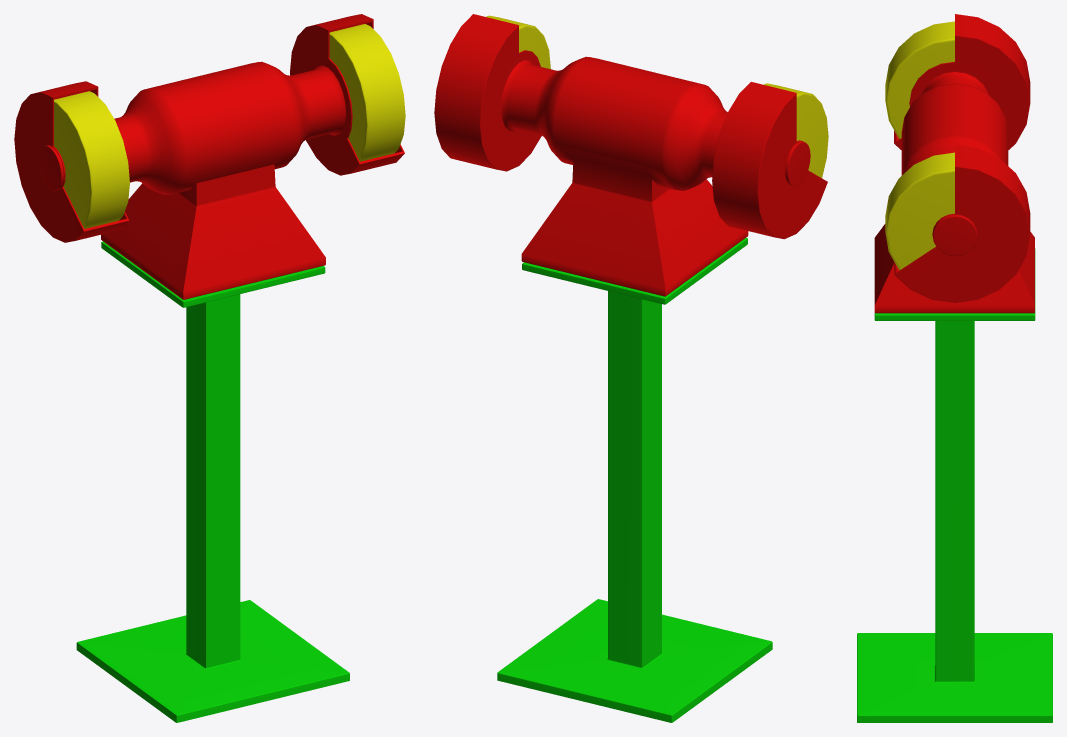
Rendered from IndustrialSander_Strong_Hannah.fbx.
3 views of the same model, side by side, from view 1: azimuth 30°, elevation 25°; view 2: azimuth 150°, elevation 25°; view 3: azimuth 270°, elevation 25° (orthographic). The views are drawn at different scales.
Visible parts, largest first — view 1: IndustSand; view 2: IndustSand; view 3: IndustSand.
Part boxes in pixels (x1,y1,x2,y2): IndustSand: (14, 14, 405, 722); IndustSand: (434, 14, 828, 722); IndustSand: (857, 14, 1052, 722).
Size of the model in its own units: 0.699 by 1.24 by 0.3714.
